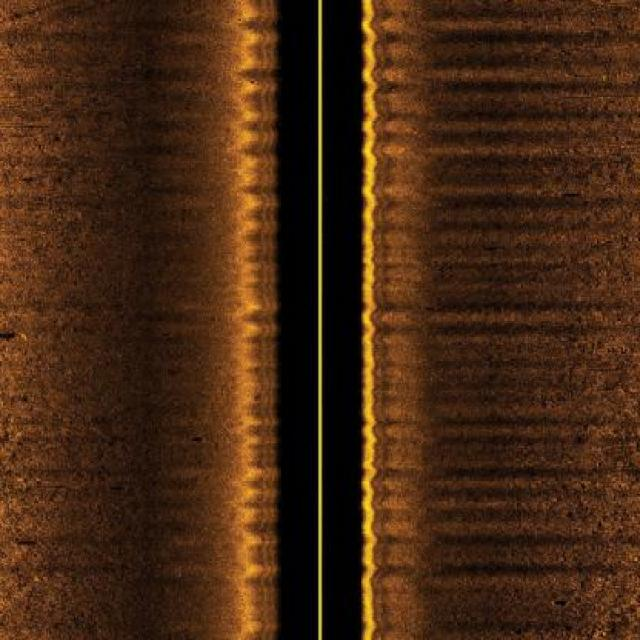other: (2, 328, 36, 343)
